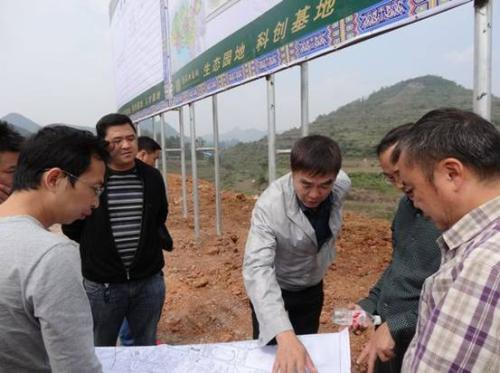person: (393, 107, 500, 373), (1, 122, 109, 372), (60, 113, 174, 346), (241, 134, 352, 373), (348, 122, 444, 373)
